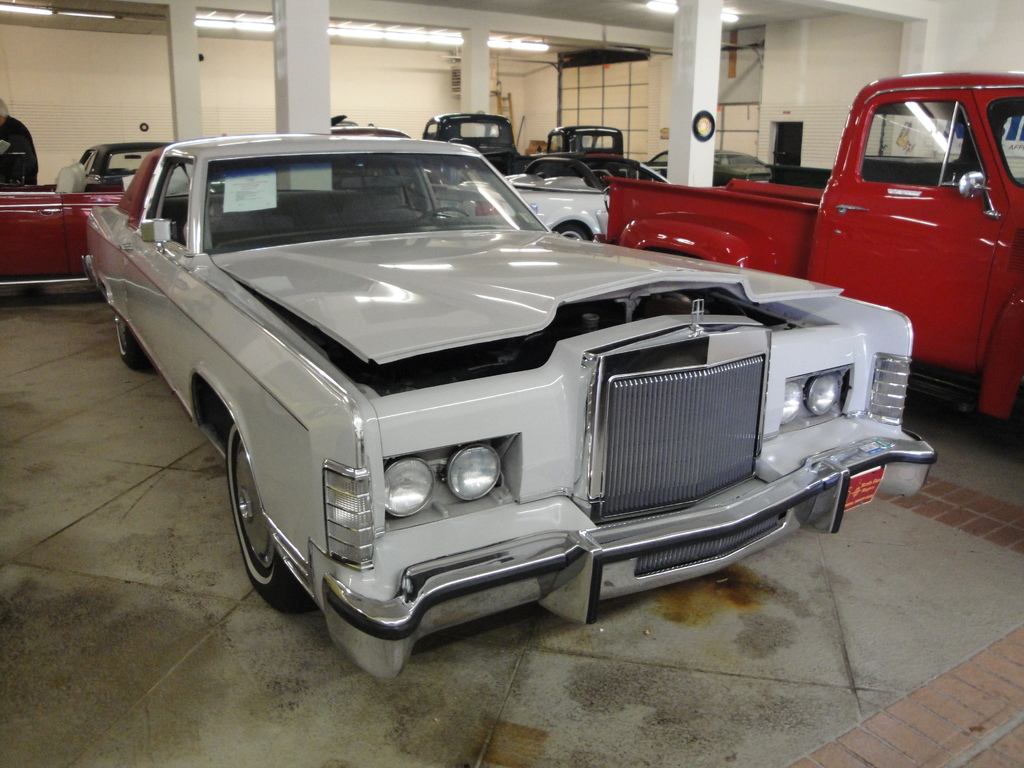cars: (79, 129, 945, 674), (445, 157, 683, 250), (0, 162, 156, 285), (419, 110, 514, 163), (645, 146, 781, 181)
